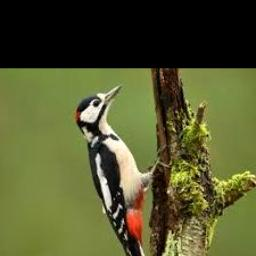Woodpecker: (76, 83, 172, 256)
